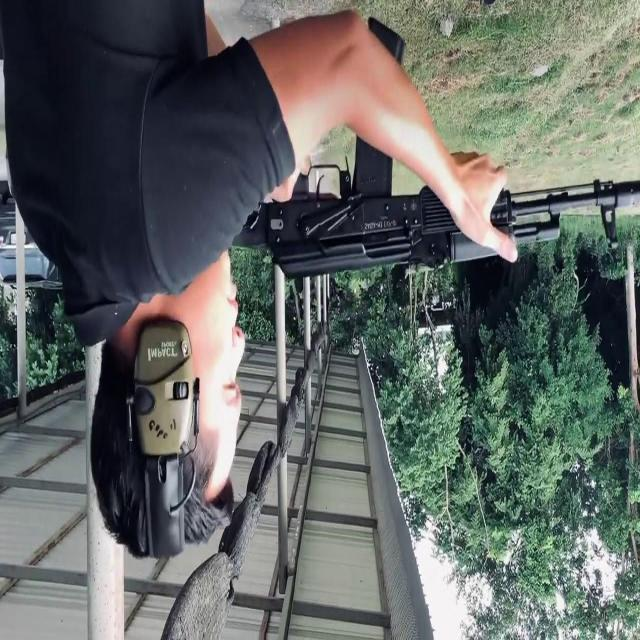weapon: (231, 14, 640, 284)
